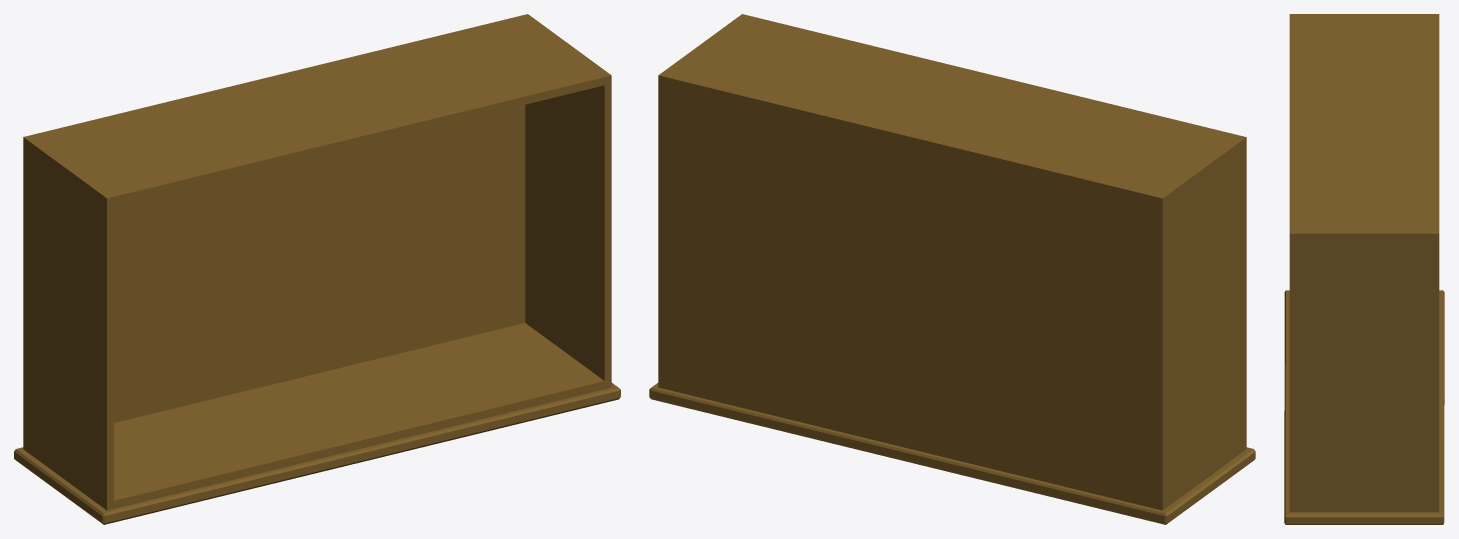
The model's file is DrawermeshDresserDrawer_318_3_1.obj.
The picture shows the model from 3 angles, left to right: view 1: azimuth 30°, elevation 25°; view 2: azimuth 150°, elevation 25°; view 3: azimuth 270°, elevation 25°; orthographic projection. The views are drawn at different scales.
Parts seen in each view (by area): view 1: DresserDrawer_318_3; view 2: DresserDrawer_318_3; view 3: DresserDrawer_318_3.
Part boxes in pixels (x1,y1,x2,y2): DresserDrawer_318_3: (14,14,620,524); DresserDrawer_318_3: (649,14,1255,524); DresserDrawer_318_3: (1284,14,1444,524).
Bounding box in the file's own units: 0.7037 × 0.4197 × 0.2109.
